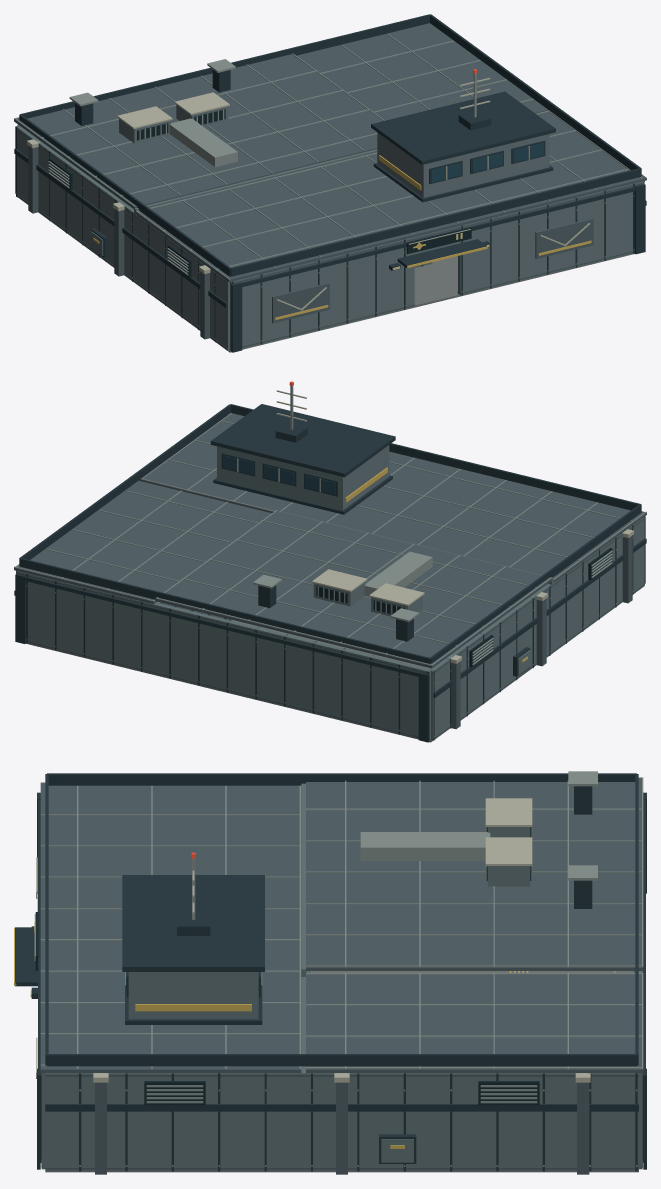
File: FSA_ENV_Military_01_CommandTraining.glb
The picture shows the model from 3 angles, top to bottom: view 1: azimuth 30°, elevation 25°; view 2: azimuth 150°, elevation 25°; view 3: azimuth 270°, elevation 25°; orthographic projection. The views are drawn at different scales.
Visible parts, largest first — view 1: RoofTraining, RoofHall, RoofArmory, WestPanel99, FrontPanel0, FrontPanel24, Exterior_UpperCap_76, Exterior_UpperCommand_74, Exterior_Parapet_71, Exterior_Parapet_70, Floor, Exterior_Parapet_73 (+20 smaller); view 2: BackPanel51, RoofTraining, RoofHall, RoofArmory, WestPanel99, Exterior_UpperCap_76, Exterior_UpperCommand_74, Exterior_Parapet_70, Exterior_Parapet_71, Exterior_Parapet_73, Exterior_HeaderBand_44, Exterior_Parapet_72 (+13 smaller); view 3: RoofTraining, RoofHall, EastPanel141, RoofArmory, Exterior_UpperCap_76, Exterior_Parapet_73, Exterior_Parapet_72, Exterior_UpperCommand_74, Exterior_SideBelt_22, Exterior_Duct_129, Floor, EastRail181 (+27 smaller).
Part boxes in pixels (left/top/right/bottom): RoofTraining: left=14, top=54, right=382, bottom=208; RoofHall: left=136, top=112, right=646, bottom=282; RoofArmory: left=296, top=23, right=548, bottom=120; WestPanel99: left=16, top=126, right=229, bottom=350; FrontPanel0: left=230, top=237, right=414, bottom=350; FrontPanel24: left=458, top=181, right=643, bottom=295; Exterior_UpperCap_76: left=371, top=91, right=555, bottom=164; Exterior_UpperCommand_74: left=377, top=132, right=549, bottom=197; Exterior_Parapet_71: left=230, top=168, right=641, bottom=276; Exterior_Parapet_70: left=20, top=14, right=430, bottom=118; Floor: left=228, top=253, right=634, bottom=352; Exterior_Parapet_73: left=430, top=14, right=641, bottom=175; BackPanel51: left=17, top=571, right=430, bottom=740; RoofTraining: left=155, top=511, right=552, bottom=668; RoofHall: left=139, top=413, right=646, bottom=582; RoofArmory: left=14, top=480, right=271, bottom=604; WestPanel99: left=429, top=517, right=644, bottom=740; Exterior_UpperCap_76: left=210, top=404, right=395, bottom=477; Exterior_UpperCommand_74: left=217, top=445, right=389, bottom=510; Exterior_Parapet_70: left=19, top=558, right=430, bottom=663; Exterior_Parapet_71: left=230, top=404, right=641, bottom=510; Exterior_Parapet_73: left=19, top=404, right=230, bottom=565; Exterior_HeaderBand_44: left=25, top=577, right=418, bottom=676; Exterior_Parapet_72: left=430, top=504, right=641, bottom=663; RoofTraining: left=306, top=779, right=643, bottom=970; RoofHall: left=40, top=784, right=301, bottom=1072; EastPanel141: left=45, top=1070, right=638, bottom=1170; RoofArmory: left=306, top=974, right=643, bottom=1072; Exterior_UpperCap_76: left=122, top=875, right=264, bottom=971; Exterior_Parapet_73: left=47, top=1054, right=636, bottom=1066; Exterior_Parapet_72: left=47, top=773, right=636, bottom=785; Exterior_UpperCommand_74: left=128, top=972, right=258, bottom=1019; Exterior_SideBelt_22: left=45, top=1104, right=638, bottom=1111; Exterior_Duct_129: left=360, top=832, right=490, bottom=860; Floor: left=45, top=971, right=638, bottom=1172; EastRail181: left=45, top=1167, right=638, bottom=1169.
Size of the model in its own units: 37.52 by 14.31 by 34.12.
